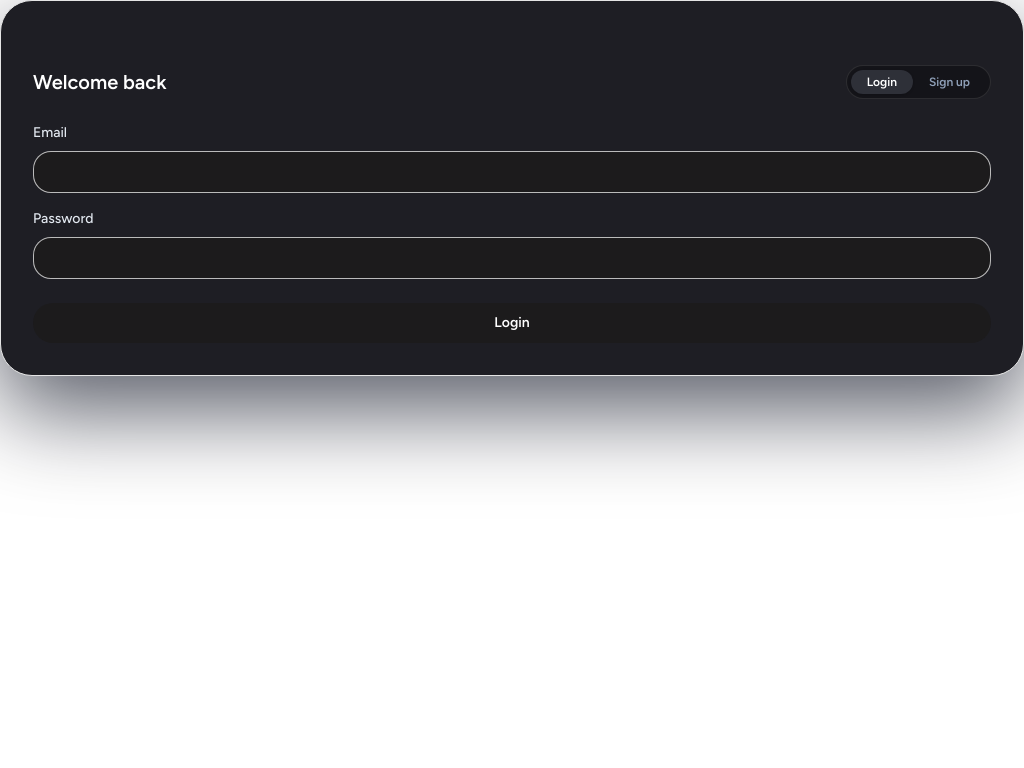
AuthForm › switches to signup mode and shows username field
Step 1. Click the button "Sign up" → (949, 82), box 913,70 -> 986,94
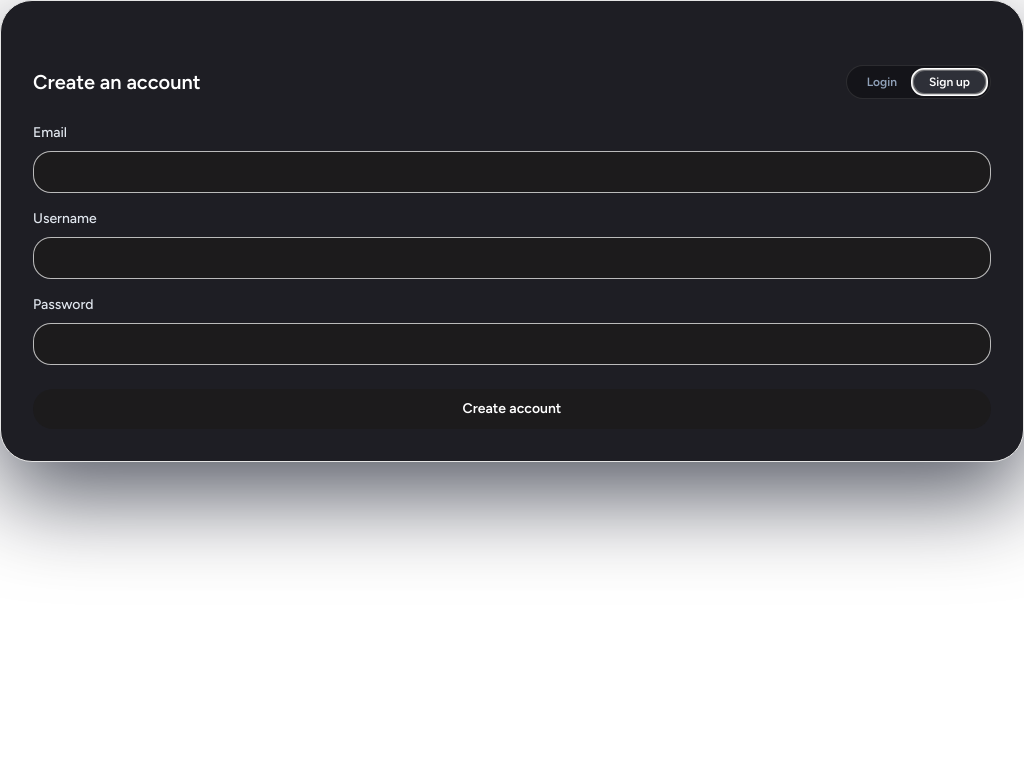
Expected: the field labelled "Username" is shown, 33,237 -> 991,279
Now the heading "Create an account" is shown, box 33,68 -> 201,96
Now the button with test id "auth-submit" reads "Create account", box 33,389 -> 991,429
